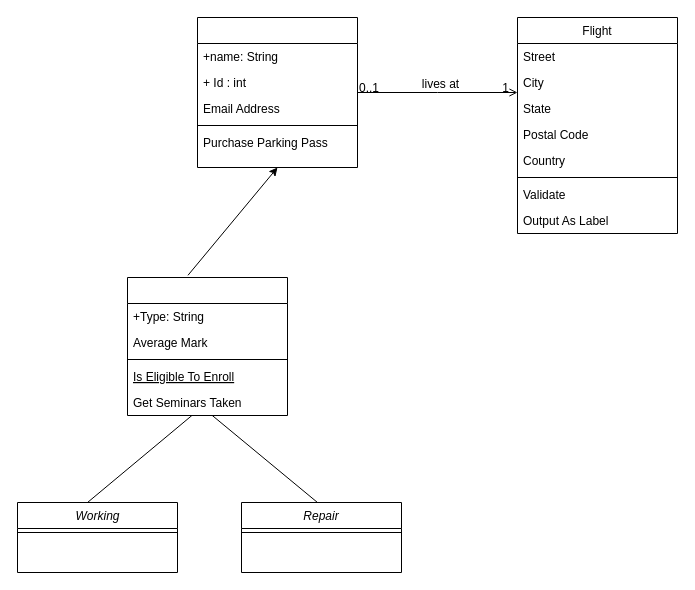
This 695x590 diagram has some shape labels left out. Here are the shapes that lost their labels. From the top down, the box of each, then its label:
(196, 16, 358, 168): Airline
(126, 276, 288, 416): Aeroplane
